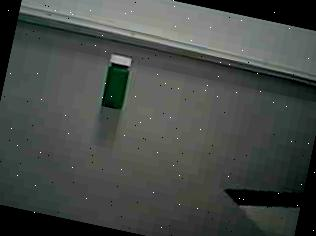Bottle C: (91, 50, 148, 125)
